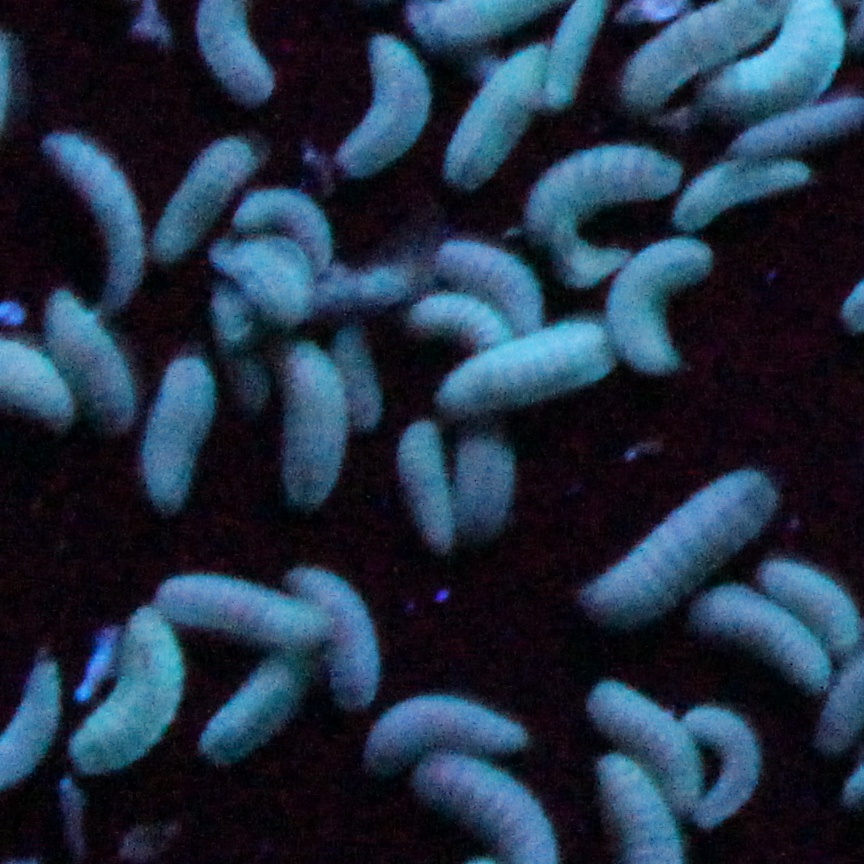larve: (559, 466, 772, 614), (43, 116, 154, 319), (529, 144, 697, 250), (70, 610, 177, 773), (602, 241, 727, 375), (163, 560, 329, 660), (295, 555, 393, 719), (140, 132, 265, 260), (586, 671, 706, 803), (38, 291, 149, 430), (186, 653, 318, 769), (438, 321, 602, 414), (345, 25, 431, 178), (447, 53, 549, 180), (709, 582, 831, 680), (143, 355, 218, 505), (668, 160, 824, 230), (443, 239, 552, 337), (684, 703, 765, 832), (354, 698, 540, 753), (286, 337, 347, 503), (227, 191, 345, 269), (220, 237, 313, 321), (404, 423, 456, 566), (404, 289, 506, 339)
